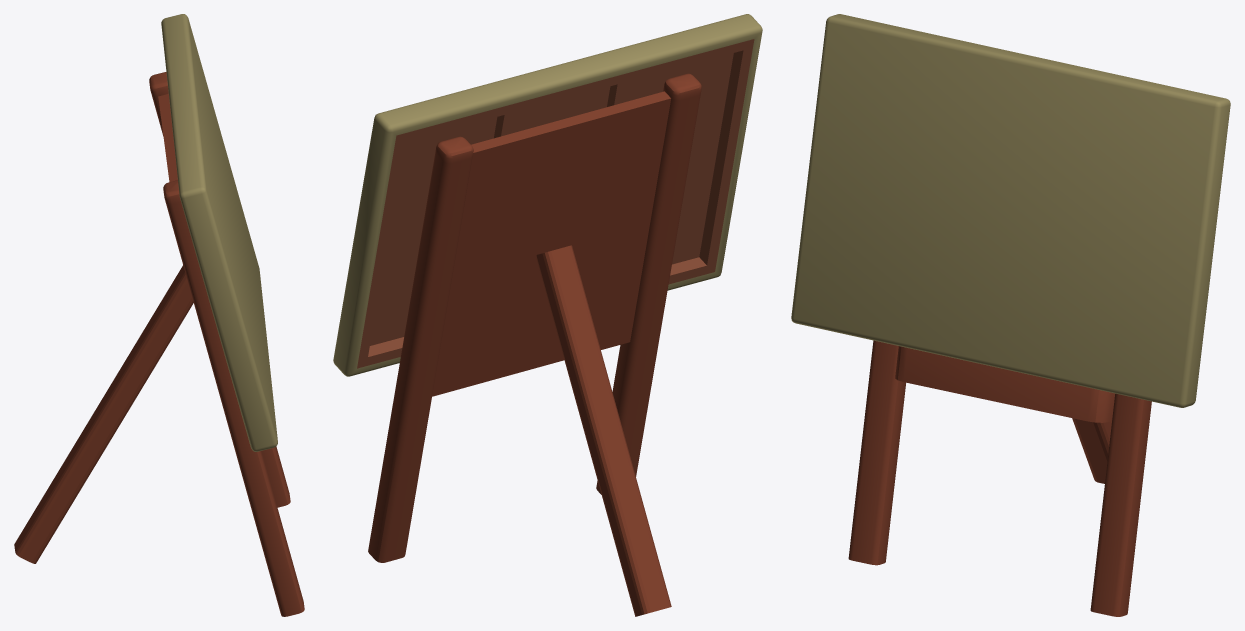
The model's file is canvas.fbx.
3 renders of one model, left to right at view 1: azimuth 30°, elevation 25°; view 2: azimuth 150°, elevation 25°; view 3: azimuth 270°, elevation 25°, orthographic. The views are drawn at different scales.
Visible parts, largest first — view 1: Cube.146, Plane.039; view 2: Cube.146, Plane.039; view 3: Plane.039, Cube.146.
Boxes of the visible parts, x1,y1,x2,y2 form: Cube.146: (14, 72, 304, 616); Plane.039: (161, 14, 277, 451); Cube.146: (368, 73, 701, 616); Plane.039: (333, 14, 762, 376); Plane.039: (791, 14, 1230, 407); Cube.146: (848, 340, 1151, 616).
Size of the model in its own units: 104 by 165 by 134.
